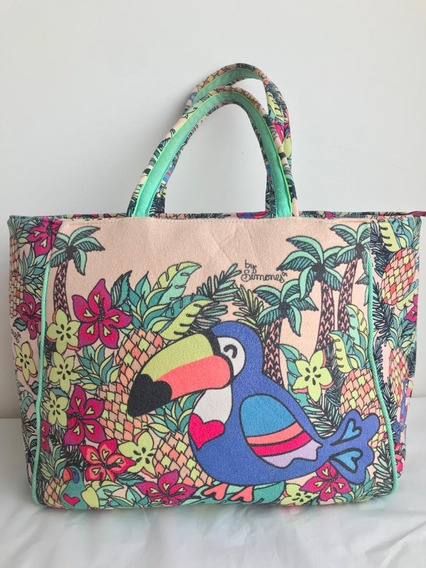cartera: (6, 63, 426, 513)
